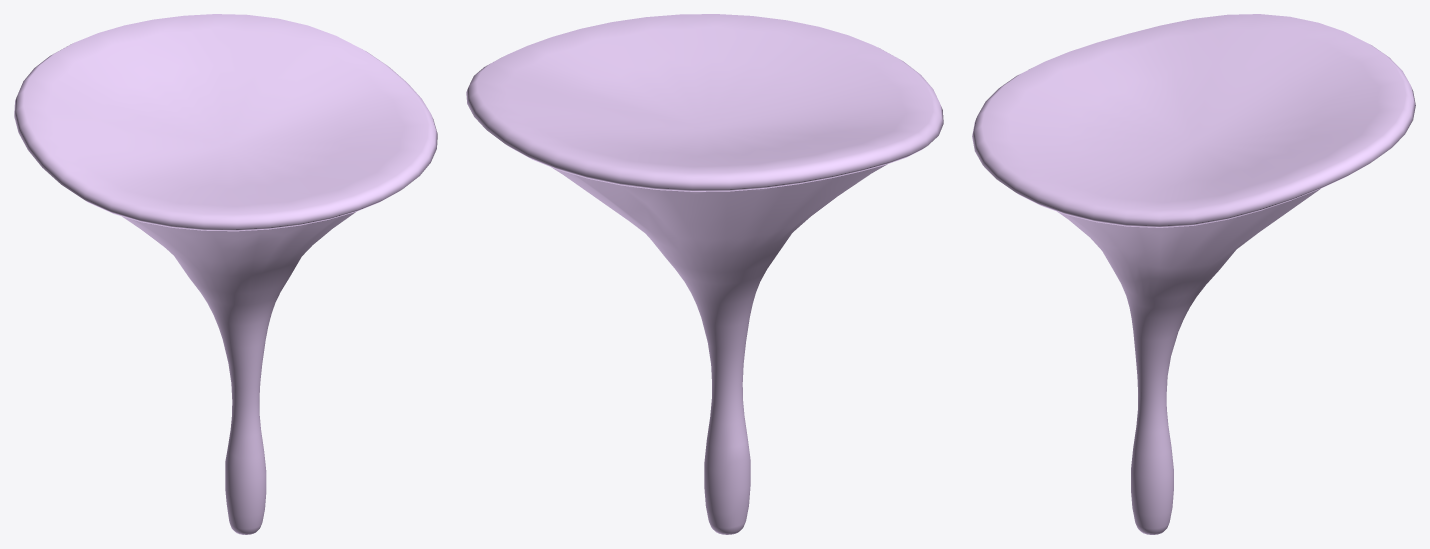
Rendered from Mushroom5.fbx.
3 views of the same model, side by side, from view 1: azimuth 30°, elevation 25°; view 2: azimuth 150°, elevation 25°; view 3: azimuth 270°, elevation 25° (orthographic). The views are drawn at different scales.
Parts seen in each view (by area): view 1: Shroom_2; view 2: Shroom_2; view 3: Shroom_2.
Boxes of the visible parts, <box> form: Shroom_2: <box>14,14,437,534</box>; Shroom_2: <box>466,14,943,534</box>; Shroom_2: <box>972,14,1415,534</box>.
Bounding box in the file's own units: 474 × 513 × 474.
